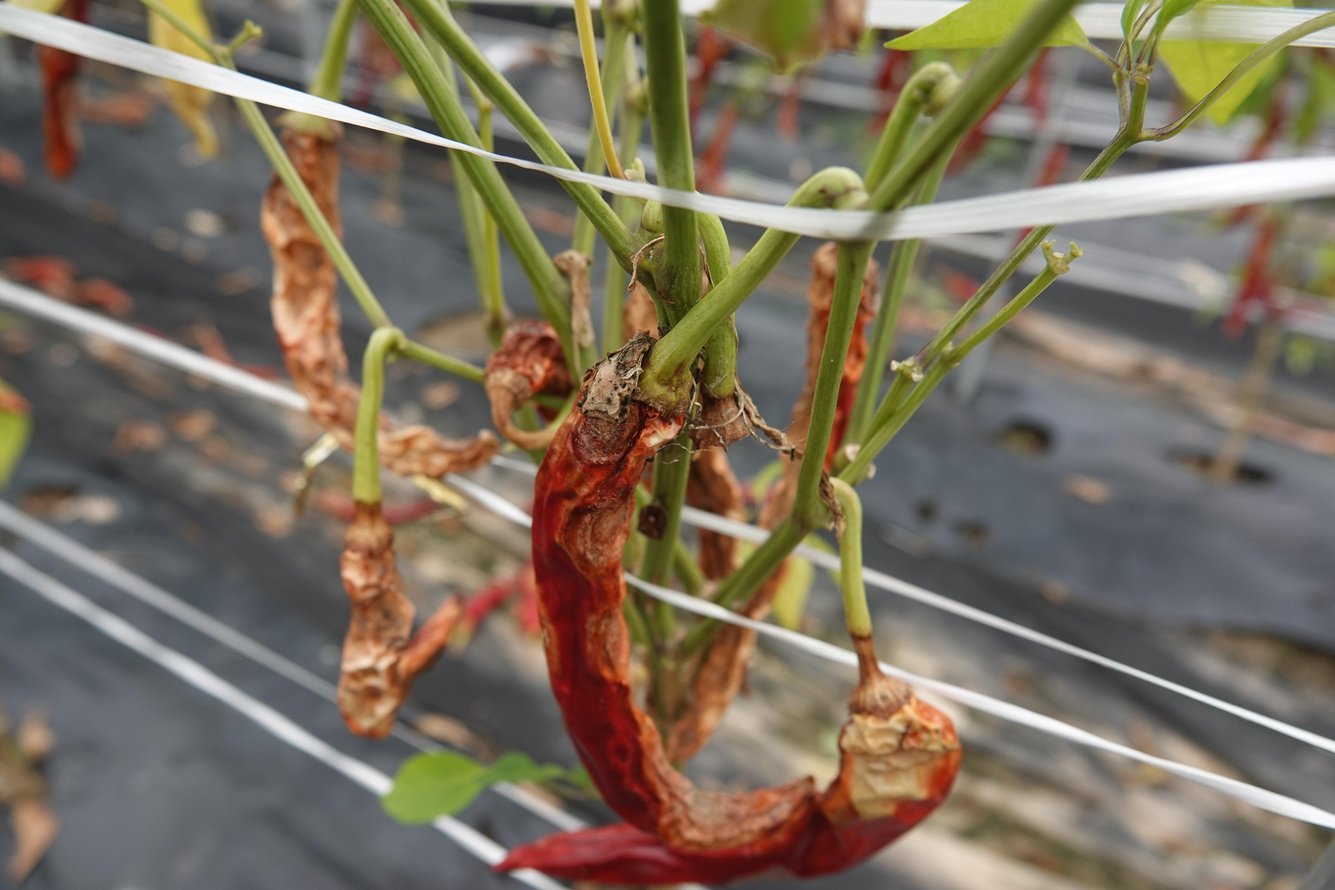Busuk Buah Antraknosa: (526, 324, 818, 855), (492, 677, 964, 890)
